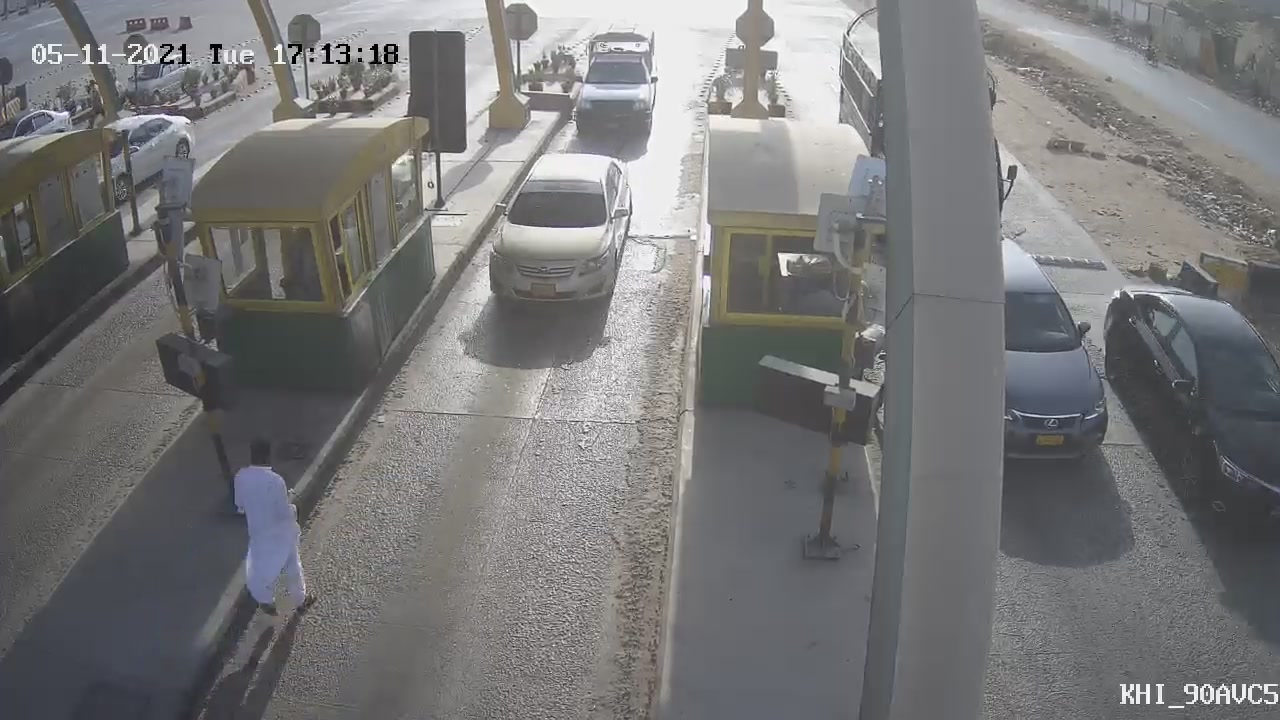F1: (470, 142, 647, 331), (559, 14, 669, 149)
